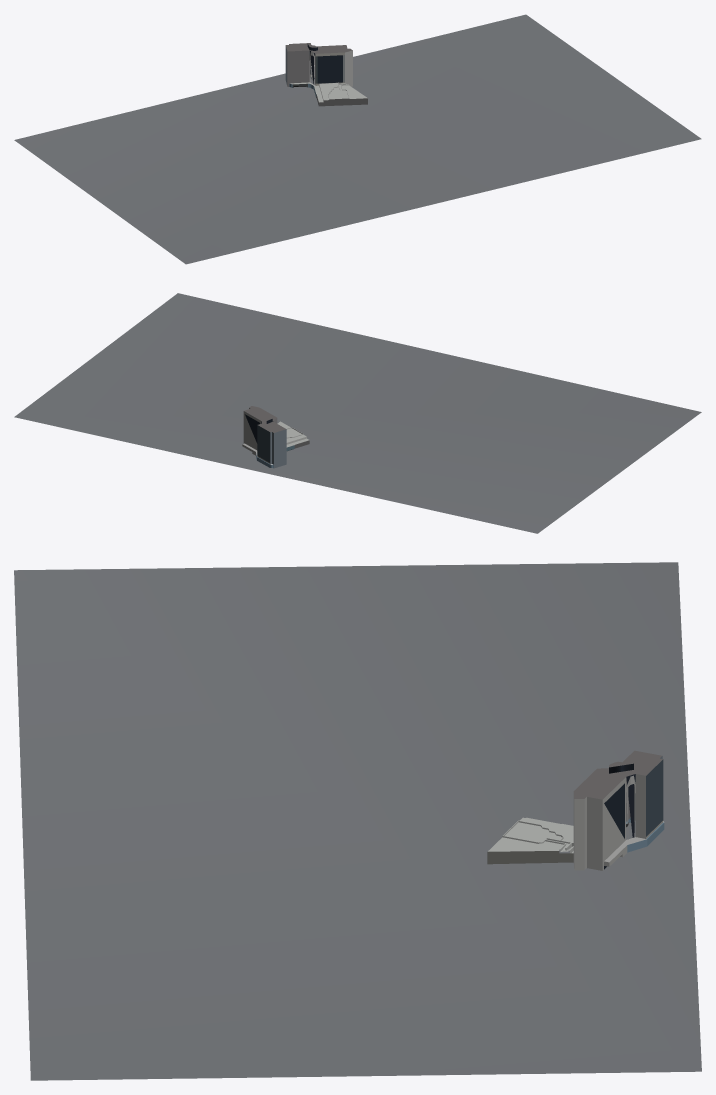
Rendered from chattanooga-marriott-hotel-at-the-convention-cen.glb.
3 renders of one model, top to bottom at view 1: azimuth 30°, elevation 25°; view 2: azimuth 150°, elevation 25°; view 3: azimuth 270°, elevation 25°, orthographic. The views are drawn at different scales.
Visible parts, largest first — view 1: LOD0; view 2: LOD0; view 3: LOD0.
Part boxes in pixels (x1,y1,x2,y2): LOD0: (14,14,701,264); LOD0: (14,293,701,533); LOD0: (14,562,701,1080).
Size of what is drawn, in the model's own units: 632 by 49.33 by 364.
2 materials, 2 textured.
